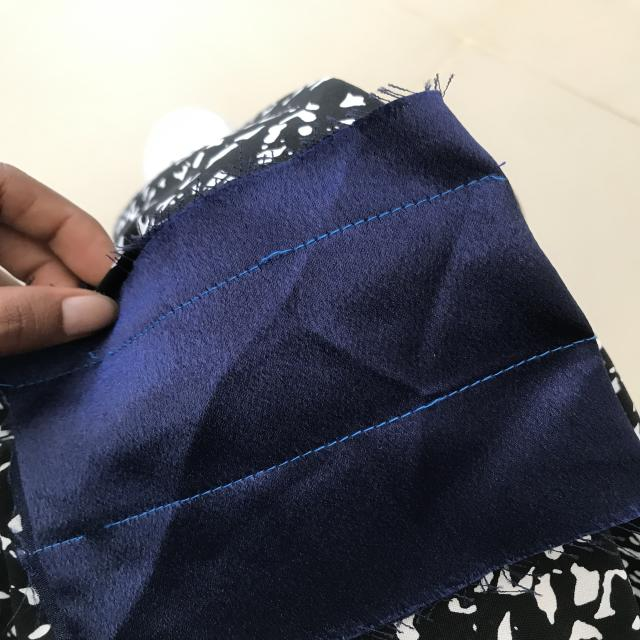broken: (67, 515, 136, 549)
skip: (246, 234, 307, 281)
